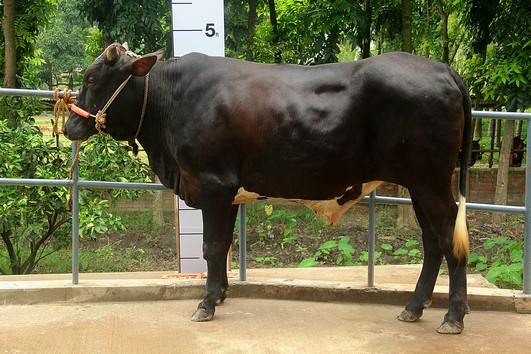cow: (59, 34, 480, 339)
